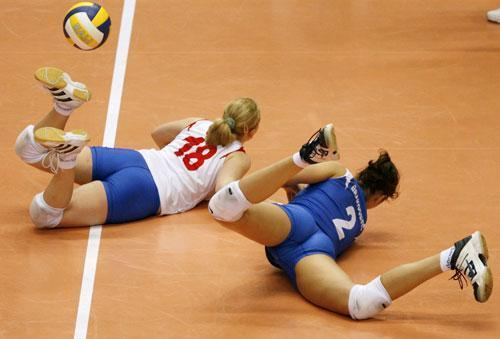Fall-Detected: (193, 116, 500, 326)
